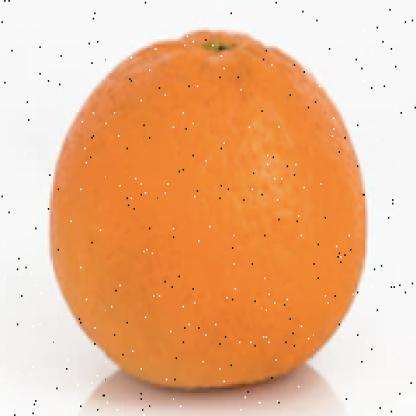fresh: (46, 31, 369, 390)
